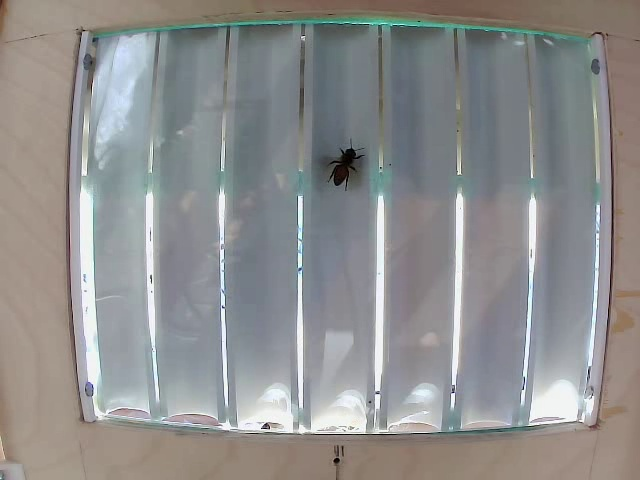bee: (323, 131, 354, 187)
